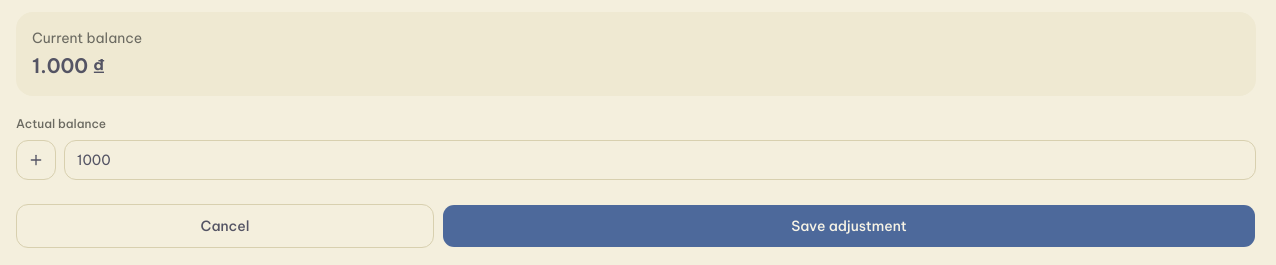
Test case: ReconcileBalanceForm › strips non-numeric characters from the amount input, with no minus key required
Replace the text in the field labelled "Actual balance" with "a8b0c0x": (660, 160) [64,140,1256,180]
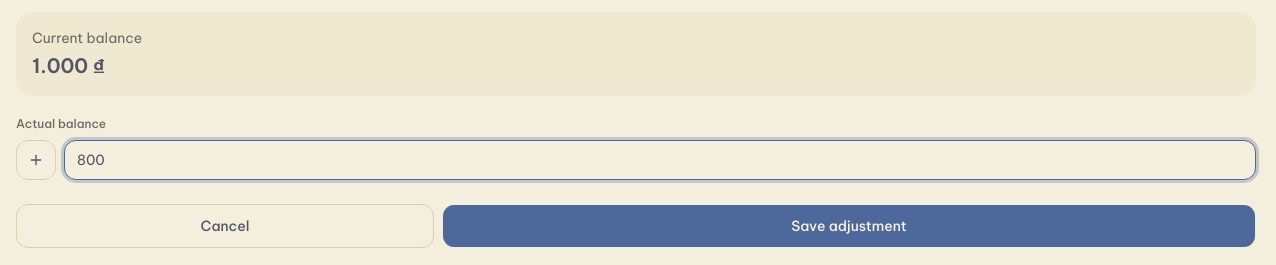
Result: the field labelled "Actual balance" holds "800" at [64,140,1256,180]
